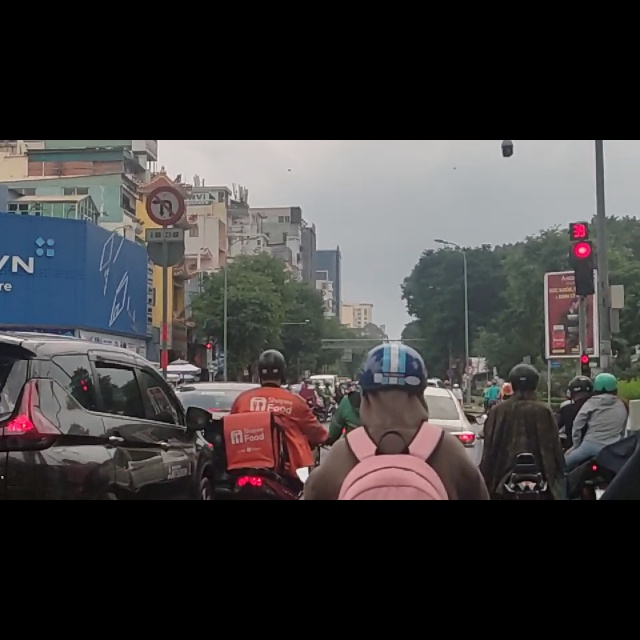bien_cam: (144, 78, 186, 154)
